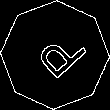P_SW: (24, 24, 86, 86)
